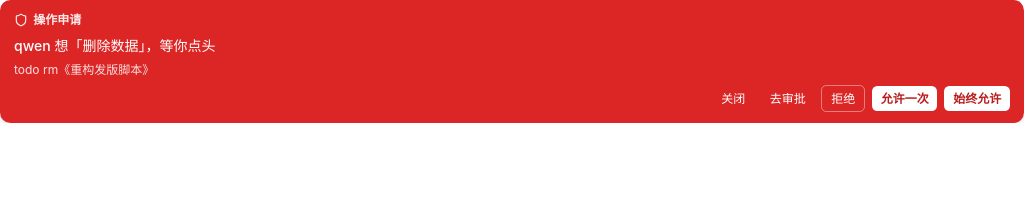
it: 授权横幅（0dfff6df）：撞守卫要有出路，且不能把人晾在半路 › 不需要补 flag 的成功回执：给的是人话，不是命令行原文
Click the button "允许一次" at (905,99), box [872, 86, 938, 111]
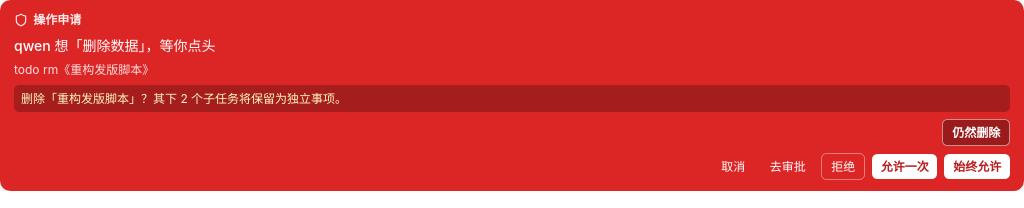
expect the button "仍然删除" is shown: met
Click the button "仍然删除" at (976,133), box [942, 119, 1010, 146]
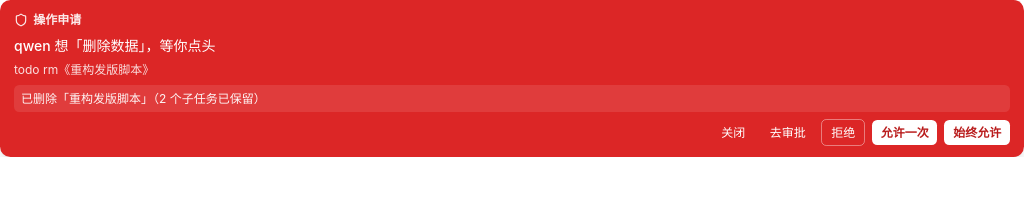
expect the text "已删除「重构发版脚本」（2 个子任务已保留）" is shown: met, box [14, 85, 1010, 112]
